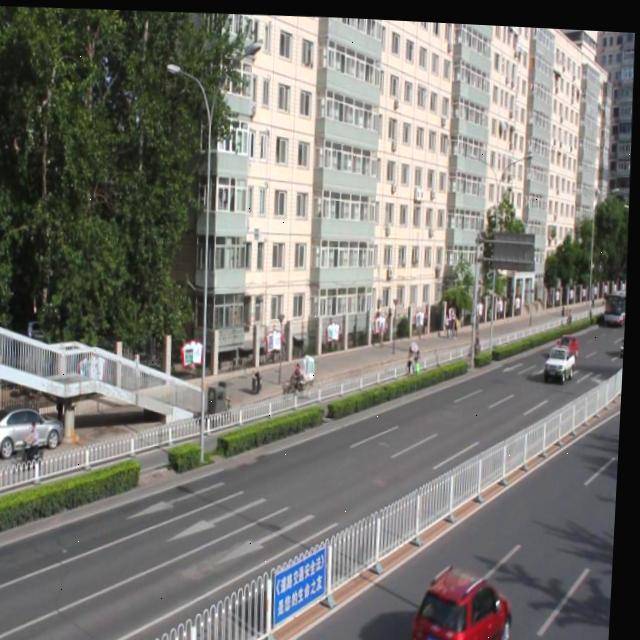car: (412, 556, 516, 640)
